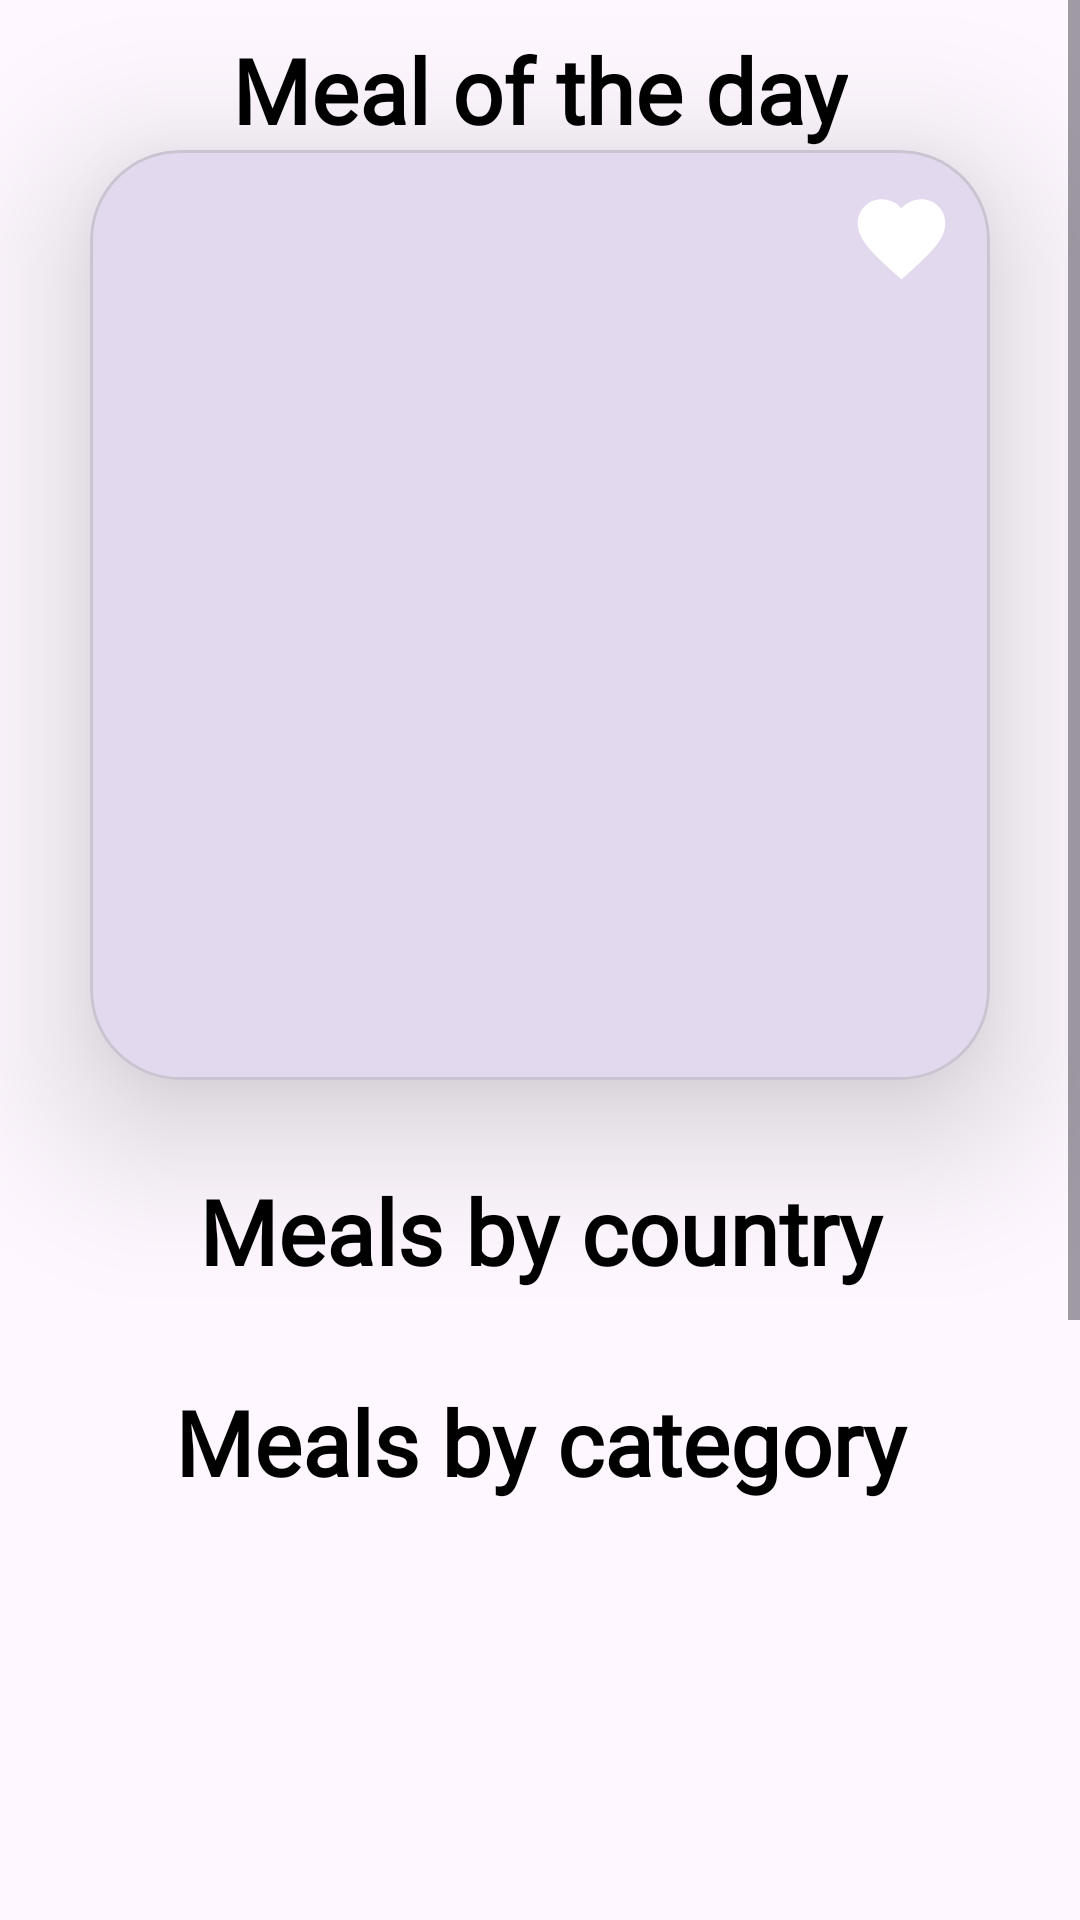

Screen size 1080px x 1920px. Icon name, then its center in pixels as (x=x, y=y):
favorite: (x=901, y=239)
